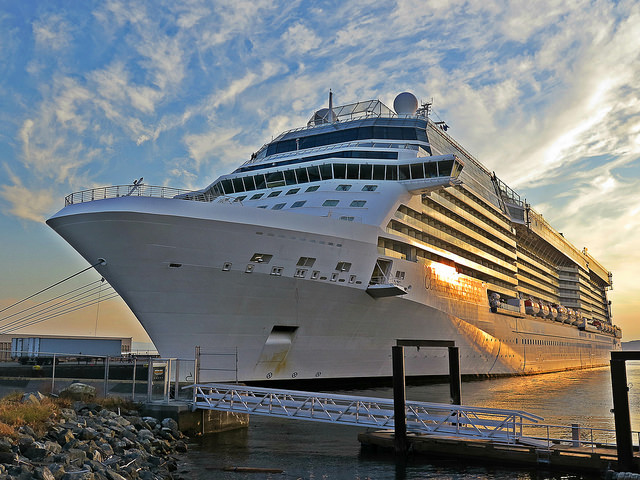cruise_ship: (45, 96, 619, 364)
